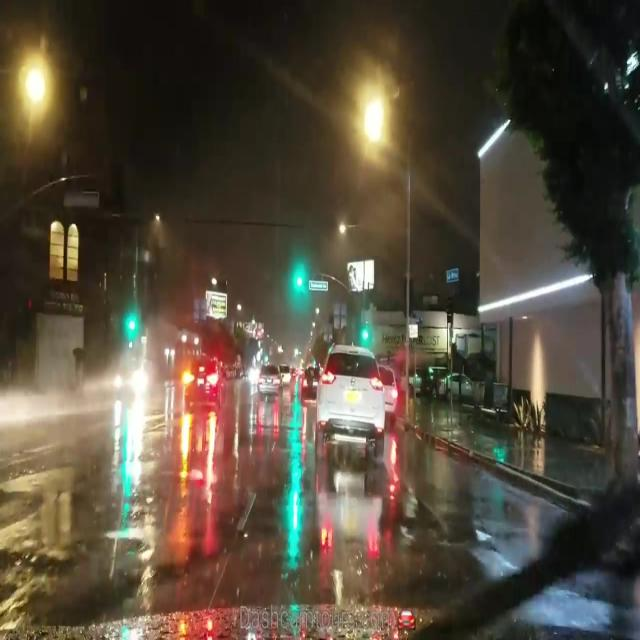Car: (313, 338, 382, 450), (179, 354, 224, 405), (256, 362, 284, 405)
